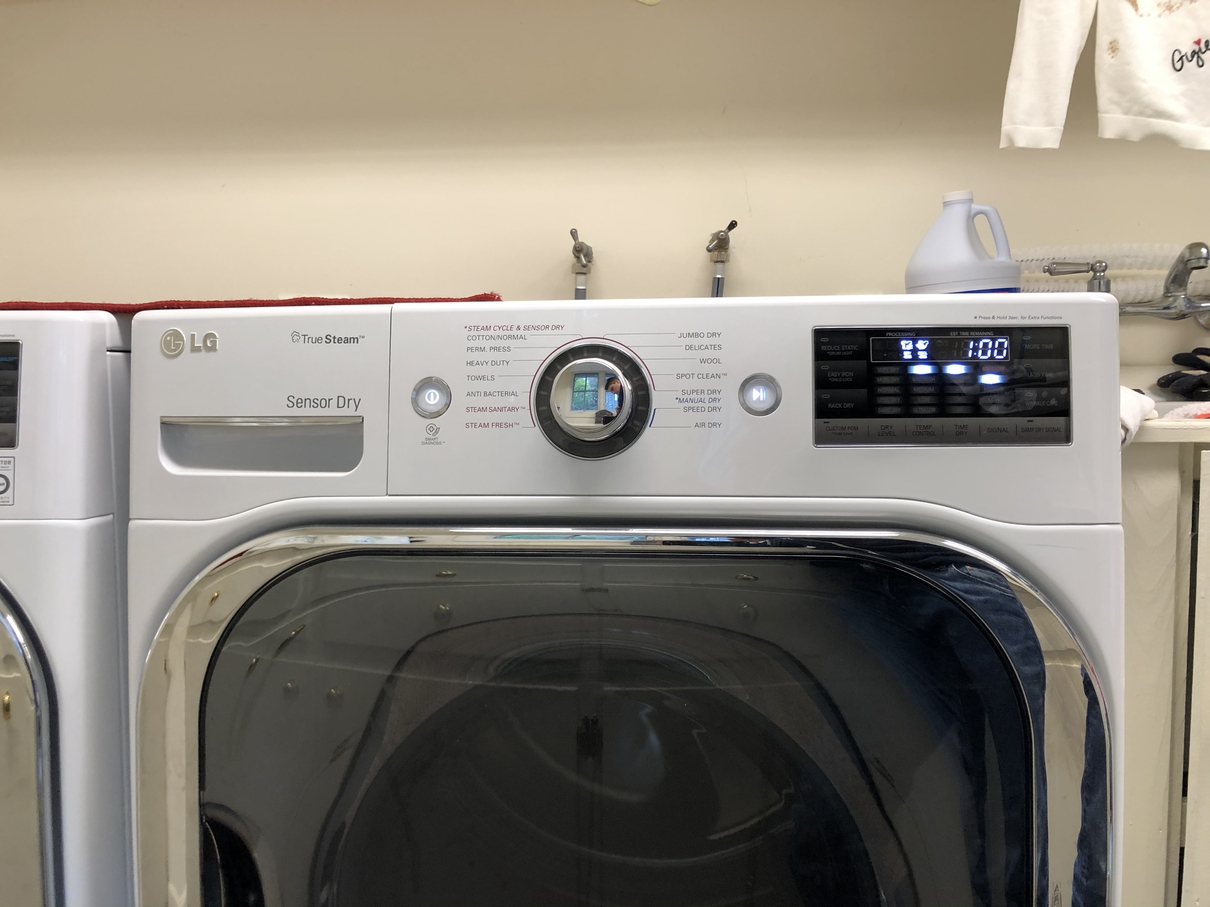status: (865, 327, 1012, 364)
